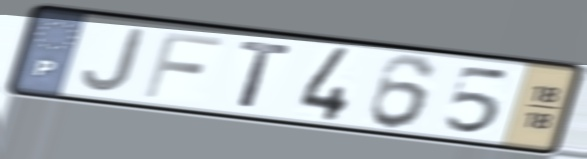4: (297, 43, 353, 125)
5: (441, 62, 516, 135)
6: (366, 50, 439, 133)
F: (138, 28, 227, 101)
J: (79, 26, 150, 94)
T: (236, 38, 297, 111)
